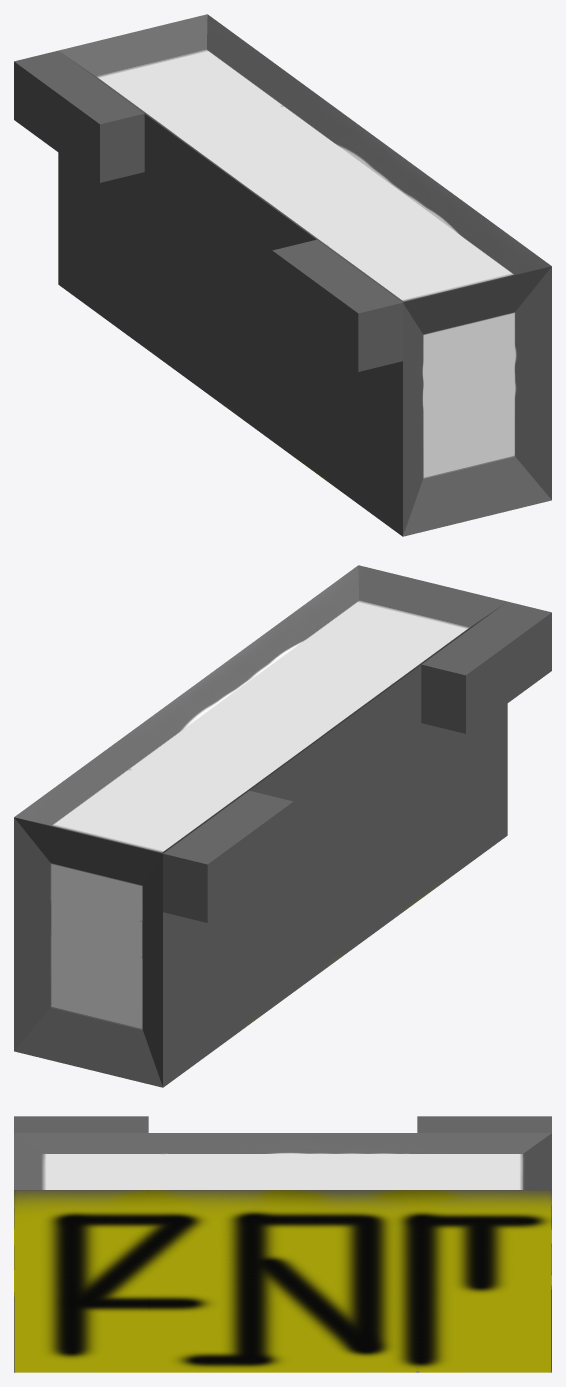
File: horizontal sign (large).obj
The picture shows the model from 3 angles, top to bottom: view 1: azimuth 30°, elevation 25°; view 2: azimuth 150°, elevation 25°; view 3: azimuth 270°, elevation 25°; orthographic projection. The views are drawn at different scales.
Visible parts, largest first — view 1: horizontal_sign_(large)_Cube.002; view 2: horizontal_sign_(large)_Cube.002; view 3: horizontal_sign_(large)_Cube.002.
Boxes of the visible parts, <box> form: horizontal_sign_(large)_Cube.002: <box>14,14,551,536</box>; horizontal_sign_(large)_Cube.002: <box>14,565,551,1087</box>; horizontal_sign_(large)_Cube.002: <box>14,1116,551,1372</box>.
Bounding box in the file's own units: 1.08 × 1.25 × 3.33.
